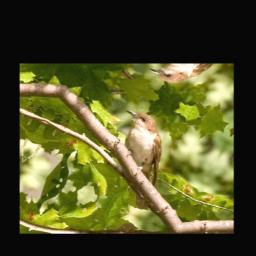Cuckoo: (82, 104, 193, 214)
